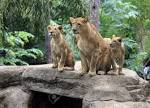lion: (70, 13, 107, 79), (45, 19, 72, 71), (107, 34, 129, 76)
